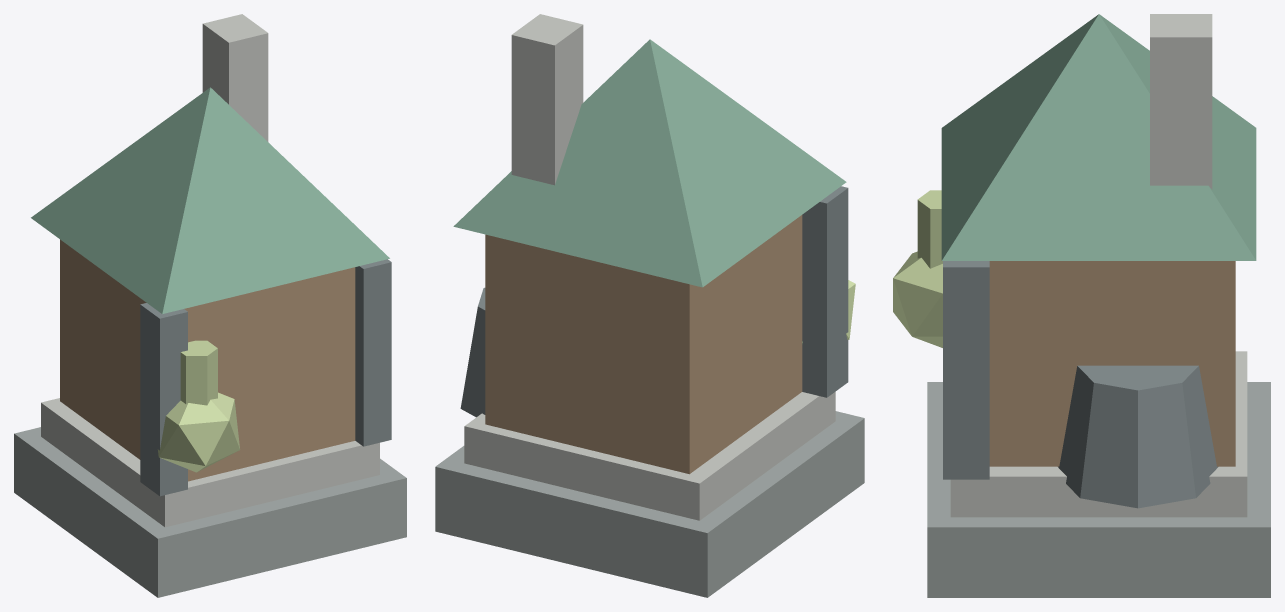
Rendered from human_alchemist_t2.glb.
The picture shows the model from 3 angles, left to right: view 1: azimuth 30°, elevation 25°; view 2: azimuth 150°, elevation 25°; view 3: azimuth 270°, elevation 25°; orthographic projection. The views are drawn at different scales.
Visible parts, largest first — view 1: human_alchemist_t2_MAT_leaf, human_alchemist_t2_MAT_wood, human_alchemist_t2_MAT_dark, human_alchemist_t2_MAT_stone, human_alchemist_t2_MAT_iron, human_alchemist_t2_MAT_poison; view 2: human_alchemist_t2_MAT_wood, human_alchemist_t2_MAT_leaf, human_alchemist_t2_MAT_dark, human_alchemist_t2_MAT_stone, human_alchemist_t2_MAT_iron; view 3: human_alchemist_t2_MAT_leaf, human_alchemist_t2_MAT_wood, human_alchemist_t2_MAT_dark, human_alchemist_t2_MAT_iron, human_alchemist_t2_MAT_stone, human_alchemist_t2_MAT_poison.
Boxes of the visible parts, bbox=[...] form: human_alchemist_t2_MAT_leaf: bbox=[31, 87, 389, 313]; human_alchemist_t2_MAT_wood: bbox=[60, 239, 355, 481]; human_alchemist_t2_MAT_dark: bbox=[14, 427, 406, 597]; human_alchemist_t2_MAT_stone: bbox=[41, 14, 379, 527]; human_alchemist_t2_MAT_iron: bbox=[140, 259, 391, 496]; human_alchemist_t2_MAT_poison: bbox=[157, 340, 239, 472]; human_alchemist_t2_MAT_wood: bbox=[485, 215, 802, 474]; human_alchemist_t2_MAT_leaf: bbox=[453, 39, 846, 287]; human_alchemist_t2_MAT_dark: bbox=[435, 411, 864, 597]; human_alchemist_t2_MAT_stone: bbox=[464, 14, 835, 520]; human_alchemist_t2_MAT_iron: bbox=[460, 186, 848, 417]; human_alchemist_t2_MAT_leaf: bbox=[941, 14, 1256, 260]; human_alchemist_t2_MAT_wood: bbox=[989, 261, 1235, 466]; human_alchemist_t2_MAT_dark: bbox=[927, 382, 1270, 597]; human_alchemist_t2_MAT_iron: bbox=[943, 261, 1218, 508]; human_alchemist_t2_MAT_stone: bbox=[950, 14, 1247, 517]; human_alchemist_t2_MAT_poison: bbox=[893, 190, 942, 347].
Bounding box in the file's own units: 0.97 × 1.51 × 0.9676.
